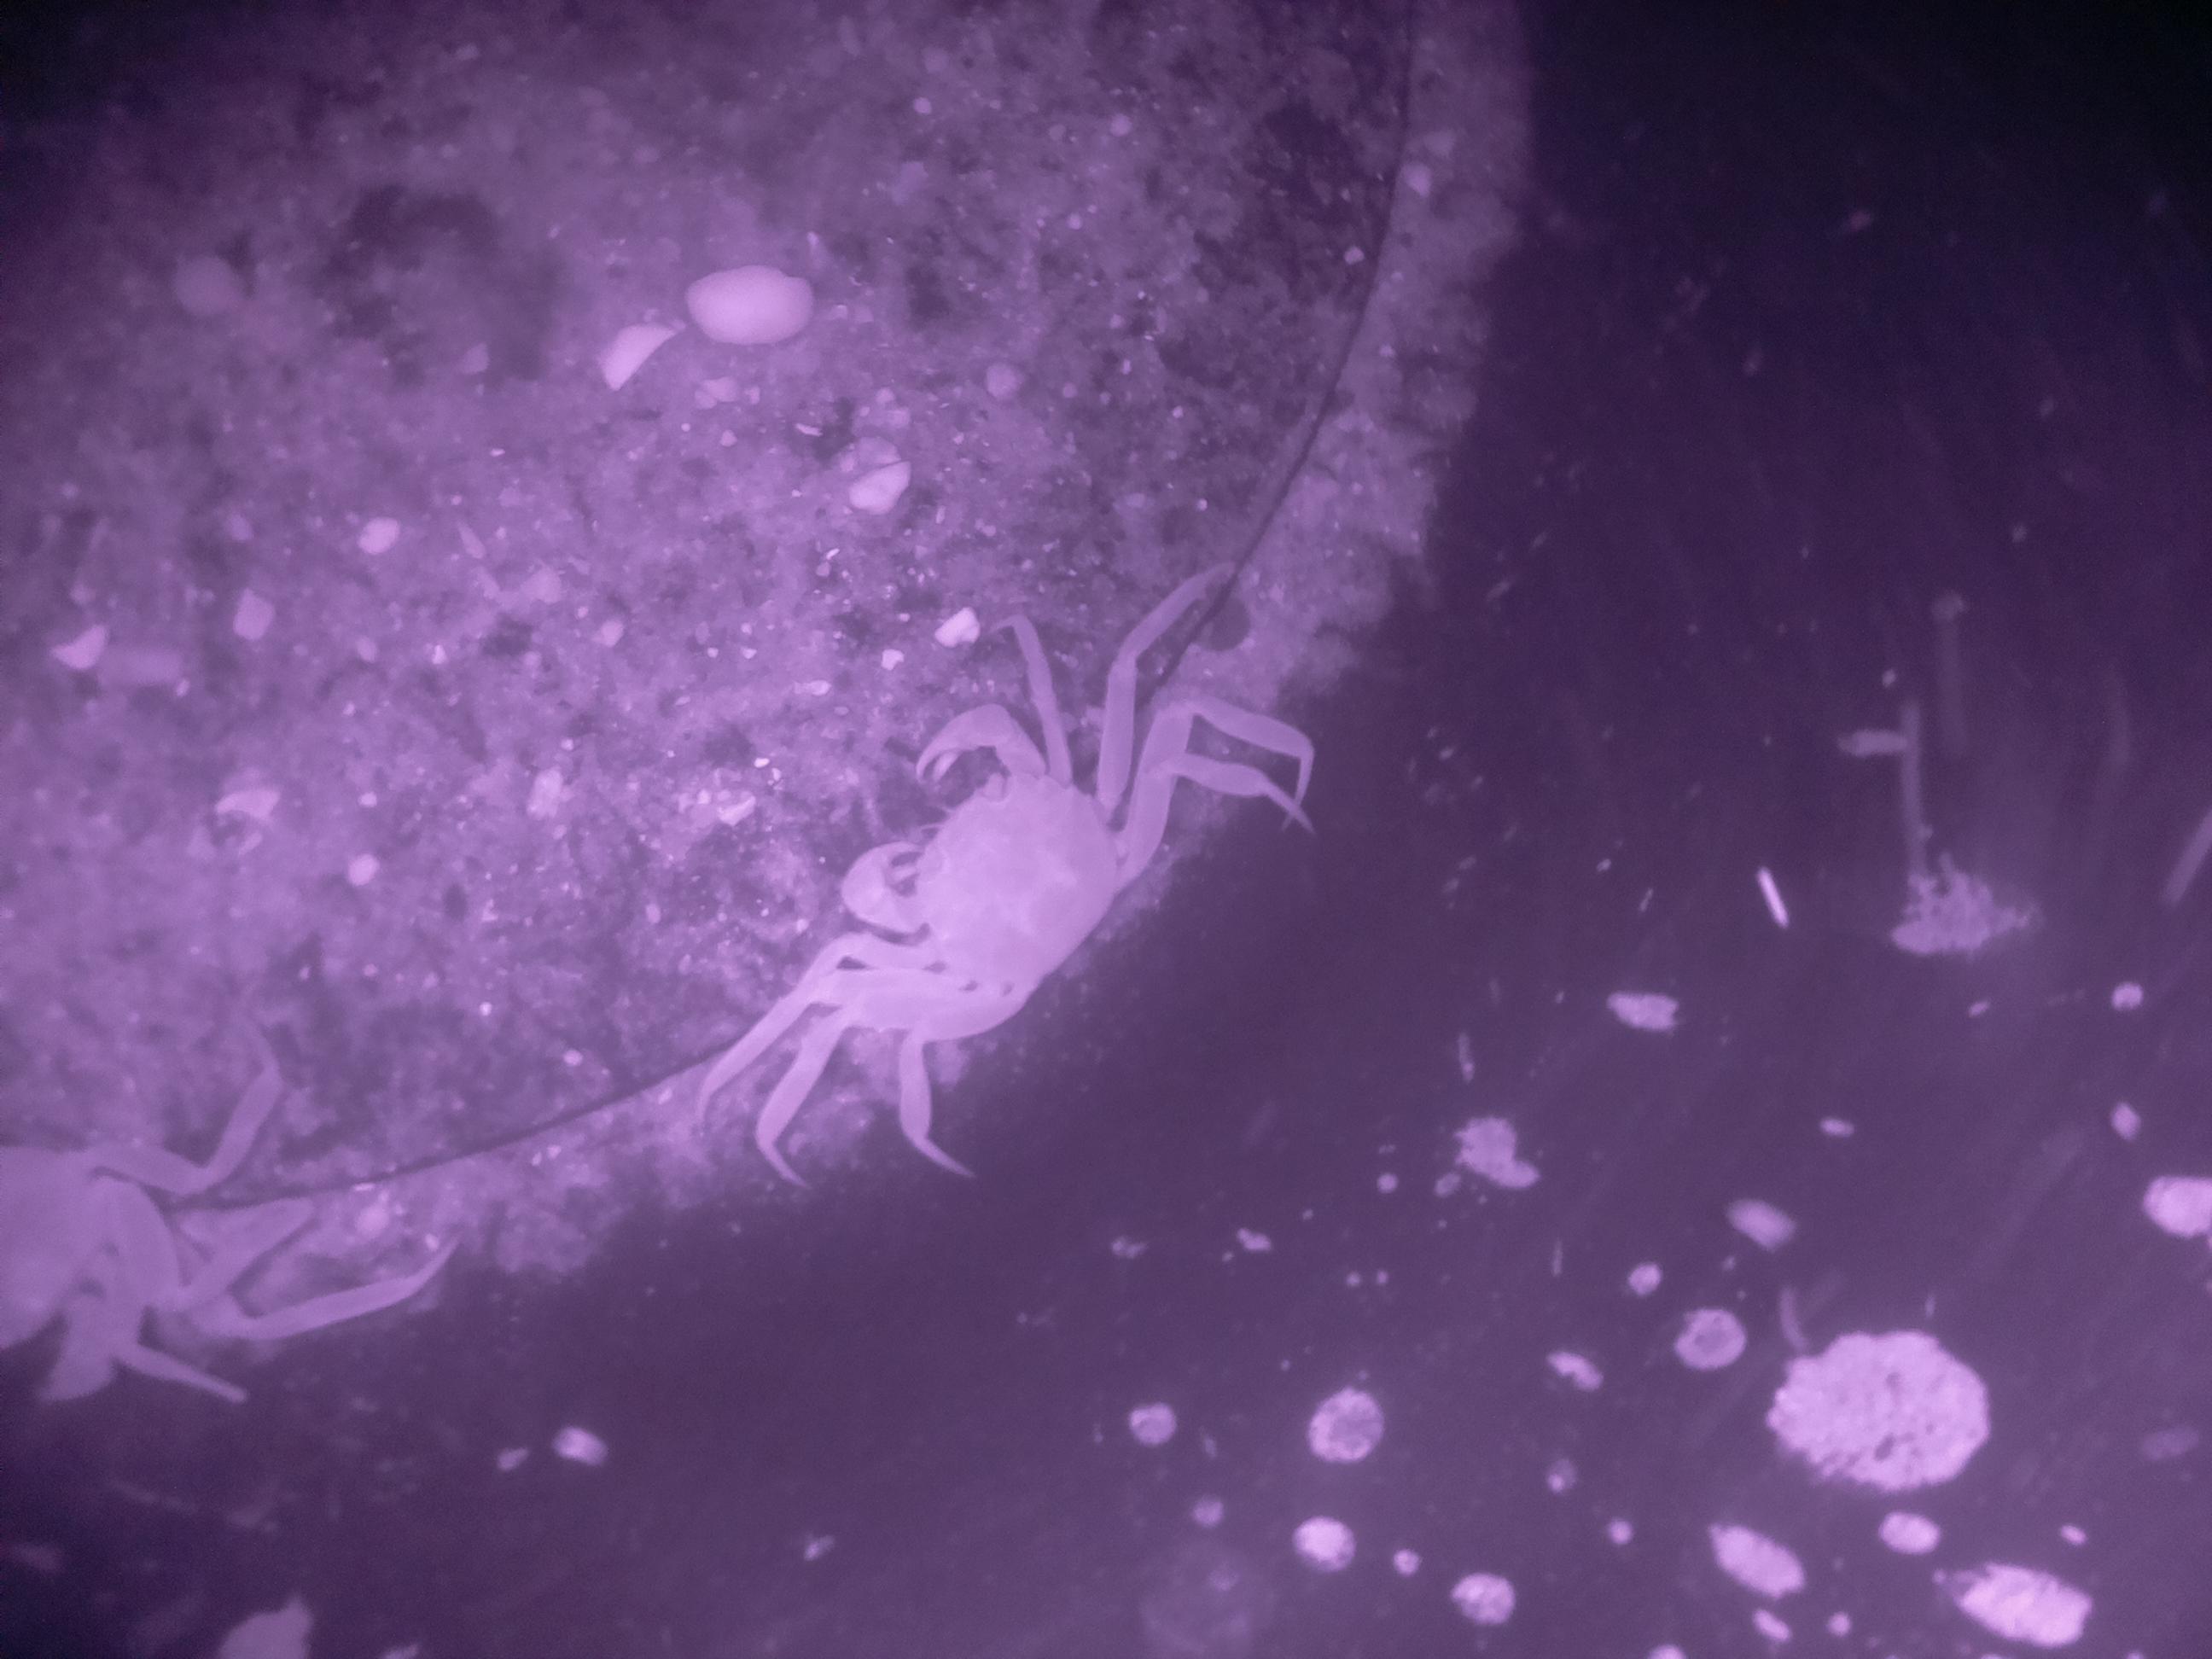Crab: (719, 669, 1235, 1077)
